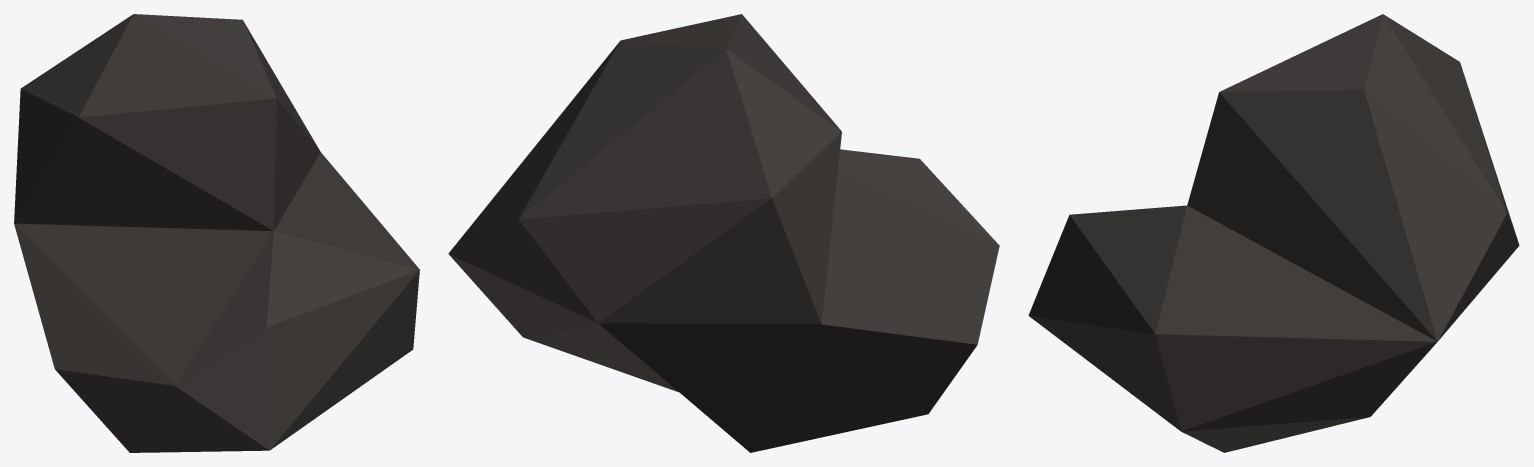
File: Rock_Single_6.fbx
The picture shows the model from 3 angles, left to right: view 1: azimuth 30°, elevation 25°; view 2: azimuth 150°, elevation 25°; view 3: azimuth 270°, elevation 25°; orthographic projection. The views are drawn at different scales.
Visible parts, largest first — view 1: Group58604; view 2: Group58604; view 3: Group58604.
Part boxes in pixels (x1,y1,x2,y2): Group58604: (14, 14, 419, 452); Group58604: (448, 14, 999, 452); Group58604: (1028, 14, 1519, 452).
Size of the model in its own units: 1.11 by 1.13 by 1.25.
